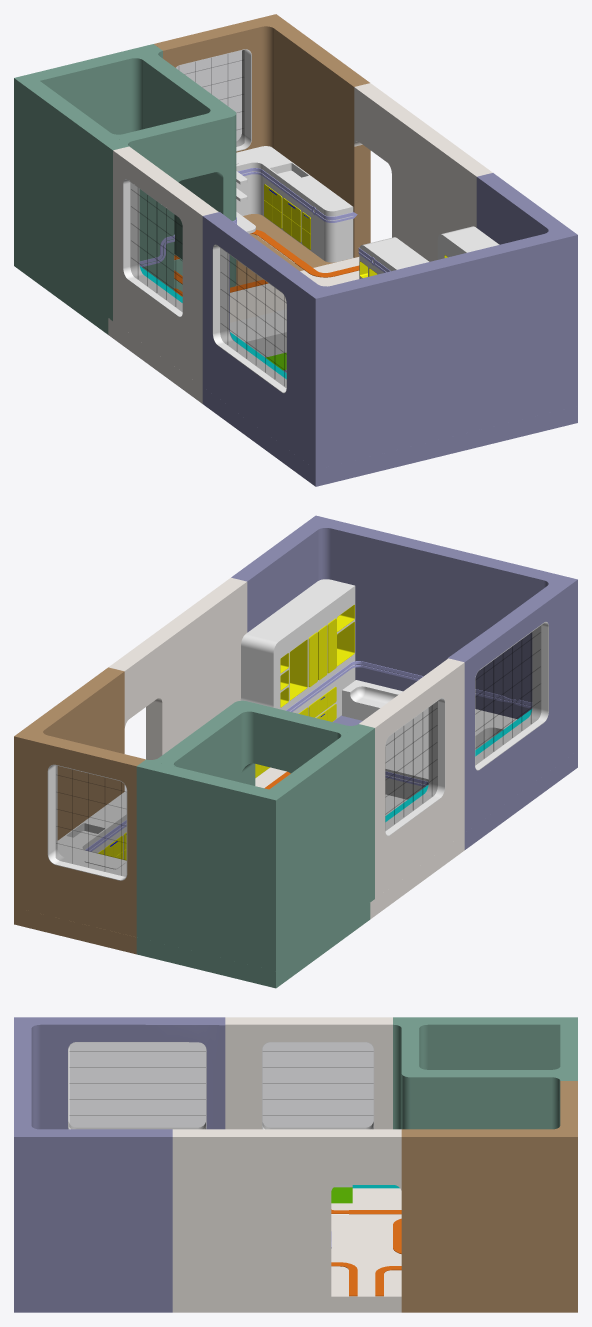
The model's file is vision typeB OptionC.glb.
The picture shows the model from 3 angles, top to bottom: view 1: azimuth 30°, elevation 25°; view 2: azimuth 150°, elevation 25°; view 3: azimuth 270°, elevation 25°; orthographic projection. The views are drawn at different scales.
Visible parts, largest first — view 1: 卧室墙, 厕所墙, 客厅墙, 厨房墙, 玻璃, 卧室地板, 窗框（金属）, 橱柜，木制或者整体性强的材质, 客厅地板, 衣柜，木制或者整体性强的材质, 厕所地板, 厨房地板 (+6 smaller); view 2: 厕所墙, 卧室墙, 客厅墙, 厨房墙, 玻璃, 衣柜，木制或者整体性强的材质, 窗框（金属）, 柜门，区别于整体的柜子, 厕所地板, 床（软包，软垫，皮纹细腻）, 卧室地板, 厨房地板 (+7 smaller); view 3: 客厅墙, 卧室墙, 厨房墙, 玻璃, 厕所墙, 客厅地板, 厨房地板, 卧室地板, 窗框（金属）, PATH.
Part boxes in pixels (x1,y1,x2,y2): 卧室墙: [202, 173, 577, 469]; 厕所墙: [14, 44, 236, 320]; 客厅墙: [113, 83, 492, 386]; 厨房墙: [154, 14, 370, 257]; 玻璃: [130, 50, 286, 387]; 卧室地板: [202, 369, 577, 486]; 窗框（金属）: [123, 49, 286, 393]; 橱柜，木制或者整体性强的材质: [236, 146, 353, 262]; 客厅地板: [108, 257, 359, 403]; 衣柜，木制或者整体性强的材质: [359, 226, 499, 278]; 厕所地板: [14, 249, 182, 334]; 厨房地板: [235, 214, 353, 286]; 厕所墙: [136, 700, 374, 971]; 卧室墙: [231, 515, 577, 832]; 客厅墙: [108, 577, 464, 898]; 厨房墙: [14, 667, 145, 937]; 玻璃: [56, 626, 540, 876]; 衣柜，木制或者整体性强的材质: [241, 579, 355, 775]; 窗框（金属）: [47, 622, 548, 880]; 柜门，区别于整体的柜子: [98, 604, 354, 860]; 厕所地板: [136, 903, 370, 988]; 床（软包，软垫，皮纹细腻）: [342, 680, 517, 756]; 卧室地板: [333, 715, 577, 849]; 厨房地板: [14, 907, 136, 954]; 客厅墙: [172, 1017, 401, 1296]; 卧室墙: [14, 1017, 225, 1296]; 厨房墙: [401, 1081, 577, 1296]; 玻璃: [69, 1042, 373, 1128]; 厕所墙: [393, 1017, 577, 1129]; 客厅地板: [172, 1188, 401, 1312]; 厨房地板: [401, 1296, 577, 1312]; 卧室地板: [14, 1296, 172, 1312]; 窗框（金属）: [68, 1042, 374, 1129]; PATH: [331, 1209, 401, 1296].
Size of the model in its own units: 4.82 by 3.3 by 9.6.
